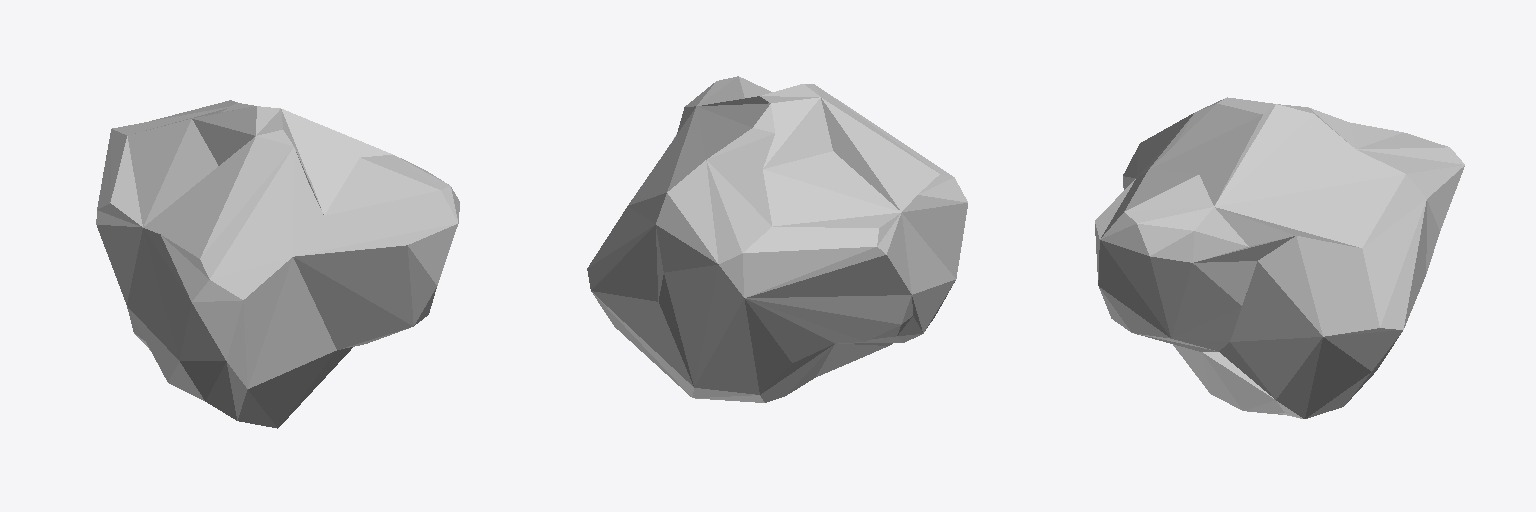
File: Rock4.obj
The picture shows the model from 3 angles: view 1: azimuth 30°, elevation 25°; view 2: azimuth 150°, elevation 25°; view 3: azimuth 270°, elevation 25°; orthographic projection.
Parts seen in each view (by area): view 1: LowPolyRock; view 2: LowPolyRock; view 3: LowPolyRock.
Part boxes in pixels (x1,y1,x2,y2): LowPolyRock: (96, 100, 459, 428); LowPolyRock: (587, 76, 967, 402); LowPolyRock: (1095, 97, 1464, 418).
Bounding box in the file's own units: 1.19 × 1.24 × 1.37.